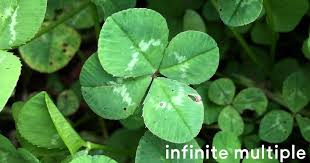4-clover: (81, 9, 219, 144)
